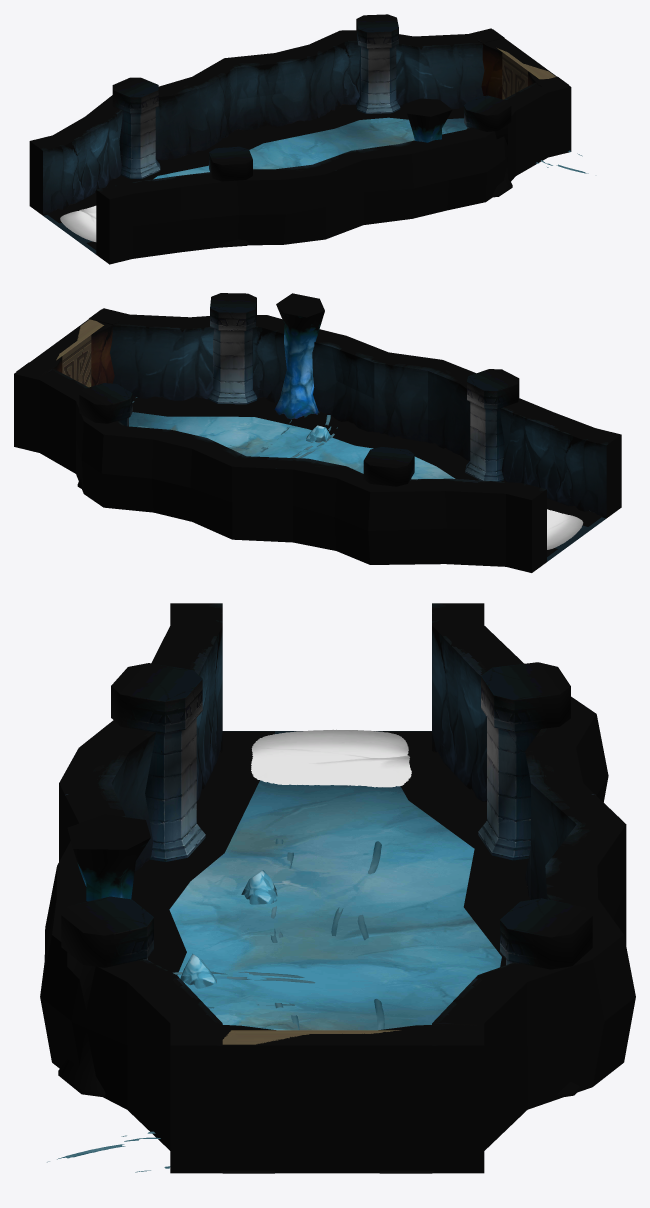
The model's file is Dungeon_033_StartRoad_001.fbx.
The picture shows the model from 3 angles, top to bottom: view 1: azimuth 30°, elevation 25°; view 2: azimuth 150°, elevation 25°; view 3: azimuth 270°, elevation 25°; orthographic projection. The views are drawn at different scales.
Parts seen in each view (by area): view 1: Dan1, Dan2, Dan1_shadow, Dungeon_033_Pillar_001 (1), Dungeon_033_Pillar_001, Dun_011_Door_002_old, Dungeon_033_Pillar_001 (2), Dungeon_033_Pillar_001 (3), Dungeon_011_Object_010, Dun_011_Door_003_WarpRoom, Exit_Light; view 2: Dan1, Dan2, Dan1_shadow, Dungeon_033_Pillar_001 (2), Dungeon_033_Pillar_001 (3), Dungeon_011_Object_010, Dun_011_Door_002_old, Dungeon_033_Pillar_001 (1), Dungeon_033_Pillar_001, Dun_011_Door_003_WarpRoom, Exit_Light; view 3: Dan1, Dan2, Dun_011_Door_002_old, Dun_011_Door_002, Dan1_shadow, Dungeon_033_Pillar_001 (3), Dungeon_033_Pillar_001, Exit_Light, Dungeon_033_Pillar_001 (2), Dungeon_033_Pillar_001 (1), Dungeon_011_Object_010, Dun_011_Door_003_WarpRoom (+2 smaller).
Part boxes in pixels (x1,y1,x2,y2): Dan1: (29,28,571,264); Dan2: (43,117,466,254); Dan1_shadow: (46,104,463,249); Dungeon_033_Pillar_001 (1): (356,14,400,113); Dungeon_033_Pillar_001: (112,77,160,178); Dun_011_Door_002_old: (472,29,568,99); Dungeon_033_Pillar_001 (2): (464,95,512,197); Dungeon_033_Pillar_001 (3): (209,146,252,247); Dungeon_011_Object_010: (403,98,452,142); Dun_011_Door_003_WarpRoom: (497,48,555,99); Exit_Light: (60,205,96,241); Dan1: (14,308,621,572); Dan2: (129,412,606,561); Dan1_shadow: (132,396,602,556); Dungeon_033_Pillar_001 (2): (208,293,257,404); Dungeon_033_Pillar_001 (3): (465,369,519,481); Dungeon_011_Object_010: (274,293,324,419); Dun_011_Door_002_old: (16,309,124,386); Dungeon_033_Pillar_001 (1): (77,383,132,488); Dungeon_033_Pillar_001: (363,447,414,486); Dun_011_Door_003_WarpRoom: (56,319,103,387); Exit_Light: (547,509,583,549); Dan1: (40,603,635,1173); Dan2: (169,731,501,1030); Dun_011_Door_002_old: (177,1024,477,1171); Dun_011_Door_002: (183,1022,476,1173); Dan1_shadow: (131,731,529,1173); Dungeon_033_Pillar_001 (3): (111,663,205,861); Dungeon_033_Pillar_001: (478,662,570,860); Exit_Light: (251,729,411,787); Dungeon_033_Pillar_001 (2): (58,896,153,1097); Dungeon_033_Pillar_001 (1): (500,898,592,1097); Dungeon_011_Object_010: (67,814,150,901); Dun_011_Door_003_WarpRoom: (222,1030,400,1044).
Size of what is drawn, in the model's own units: 16.32 by 2.96 by 8.92.
